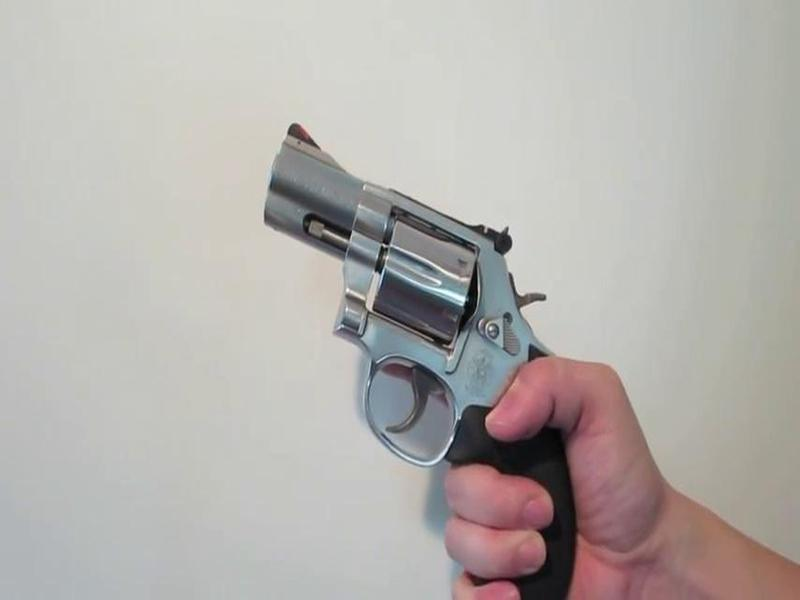Revolver: (242, 107, 598, 600)
